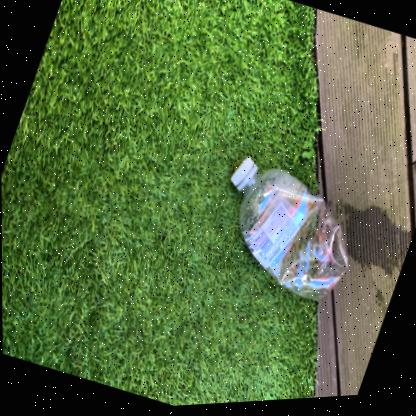Plastic: (231, 158, 347, 302)
